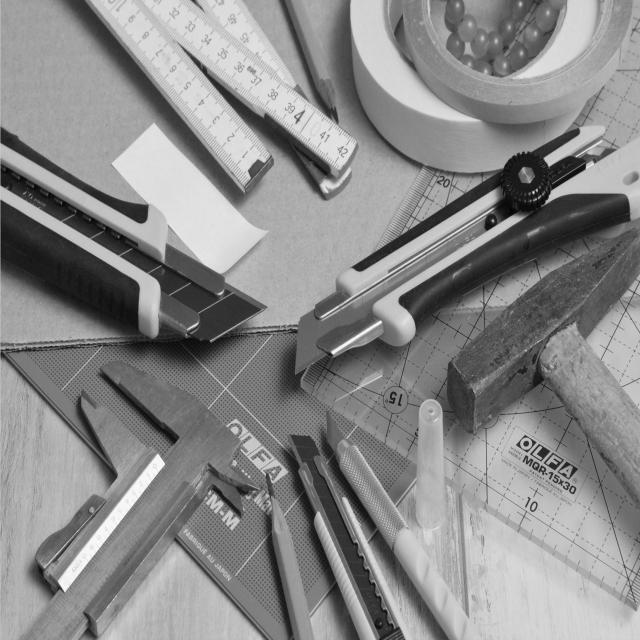hammer: (434, 216, 640, 507)
measuring_tape: (78, 0, 375, 223)
pencil: (253, 459, 321, 640), (268, 0, 346, 120)
utility_knife: (279, 114, 640, 400), (0, 80, 282, 359), (269, 399, 512, 640)
vernier_caliper: (14, 353, 270, 640)
